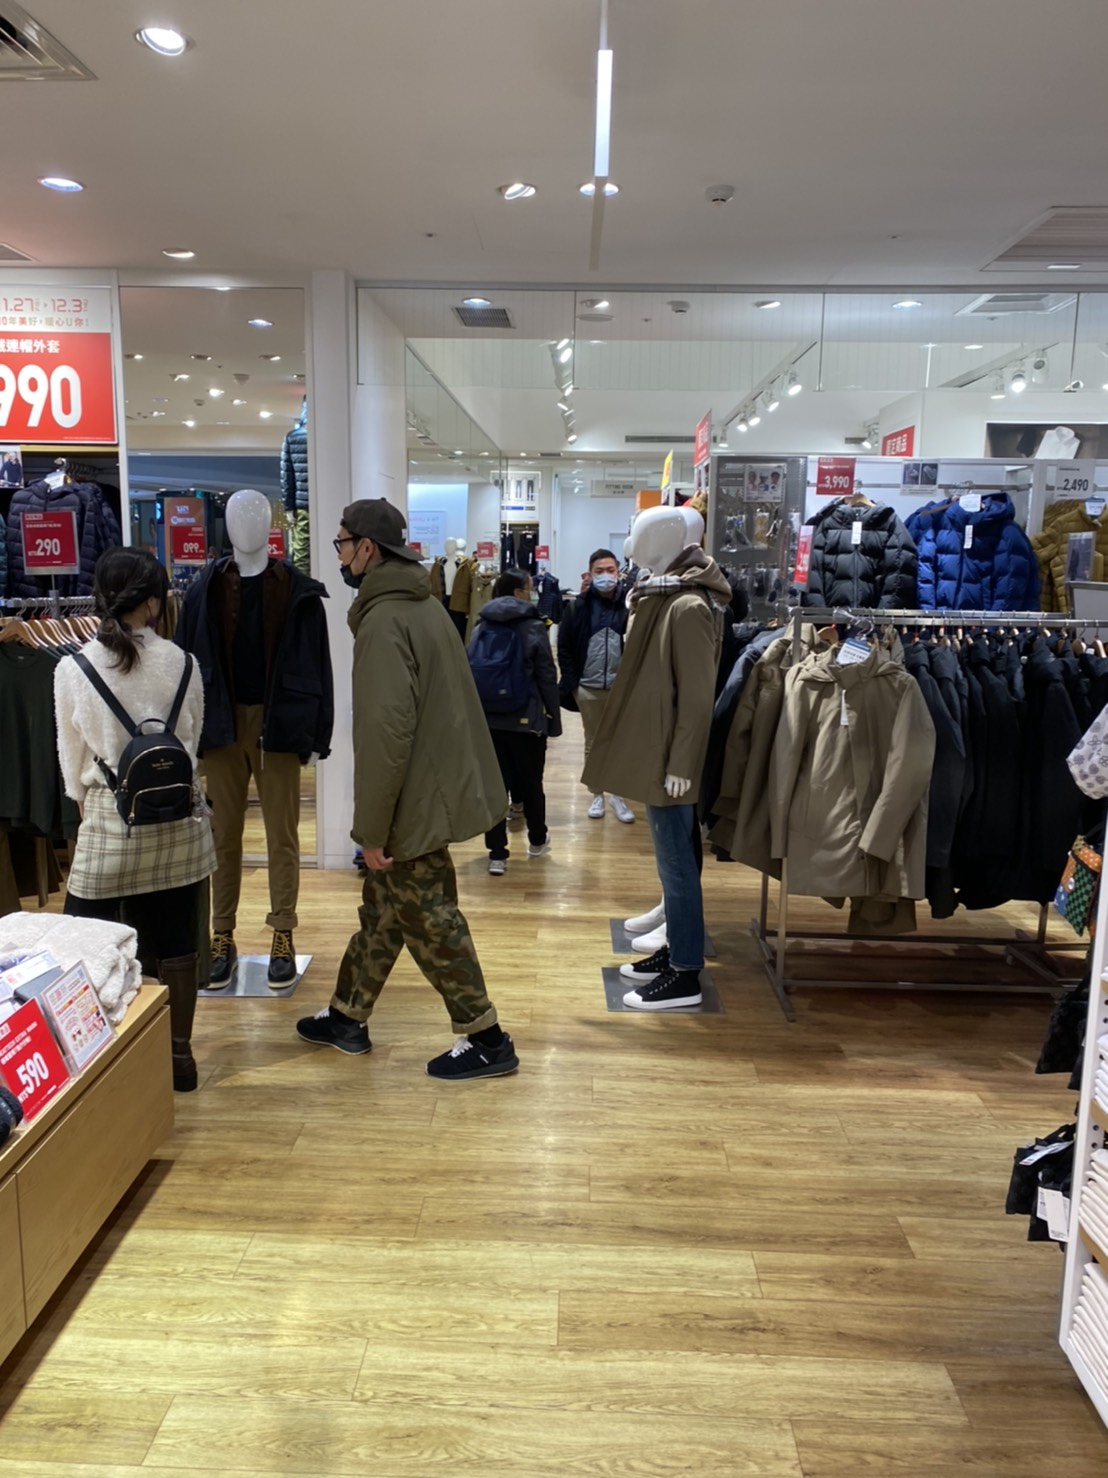people: (314, 507, 545, 1085), (78, 554, 217, 1081), (478, 566, 567, 866), (571, 564, 652, 838)
